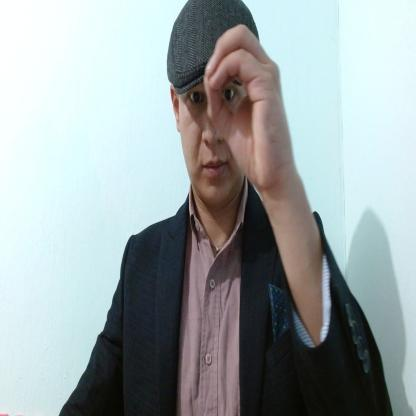O: (203, 24, 293, 194)
